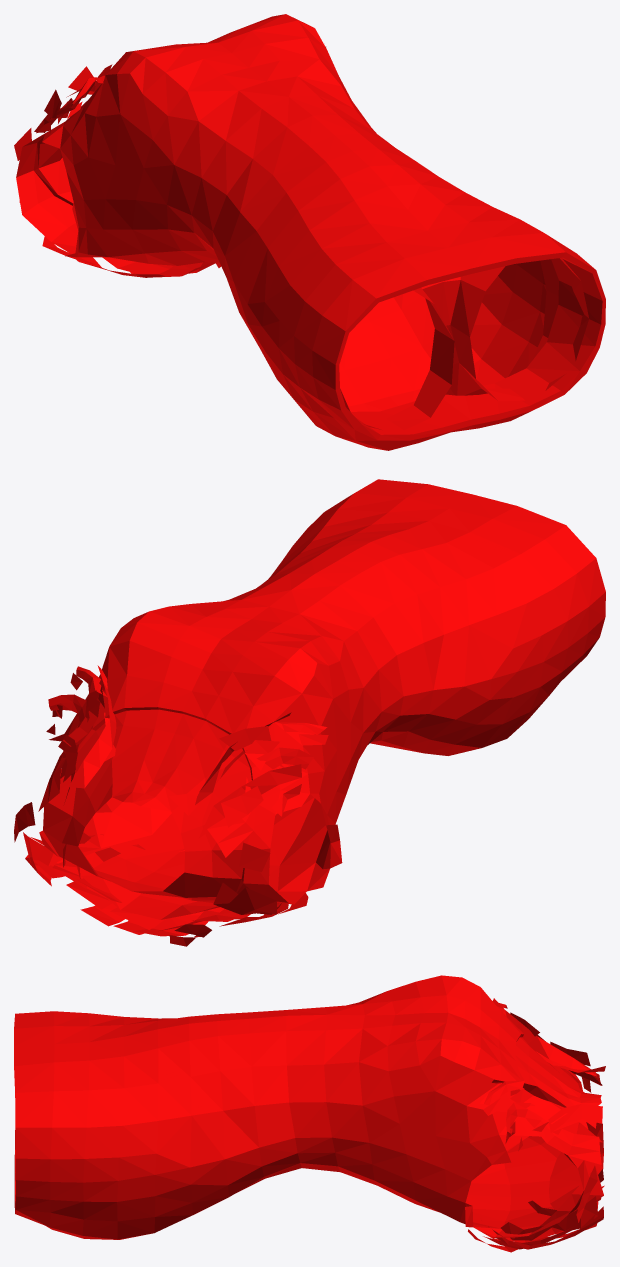
Rendered from female top4.glb.
3 views of the same model, one above another, from view 1: azimuth 30°, elevation 25°; view 2: azimuth 150°, elevation 25°; view 3: azimuth 270°, elevation 25° (orthographic). The views are drawn at different scales.
Visible parts, largest first — view 1: imagetostl_mesh1; view 2: imagetostl_mesh1; view 3: imagetostl_mesh1.
Part boxes in pixels (x1=…): imagetostl_mesh1: x1=14, y1=14, x2=605, y2=450; imagetostl_mesh1: x1=14, y1=479, x2=605, y2=946; imagetostl_mesh1: x1=14, y1=975, x2=605, y2=1252.
Bounding box in the file's own units: 1.06 × 0.9761 × 2.29.
